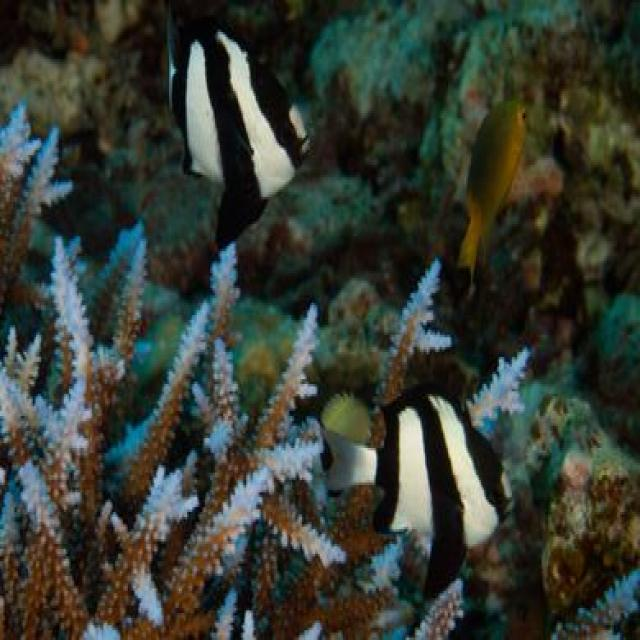ThreeStripedDamselfish: (327, 384, 512, 601), (169, 5, 305, 254)
